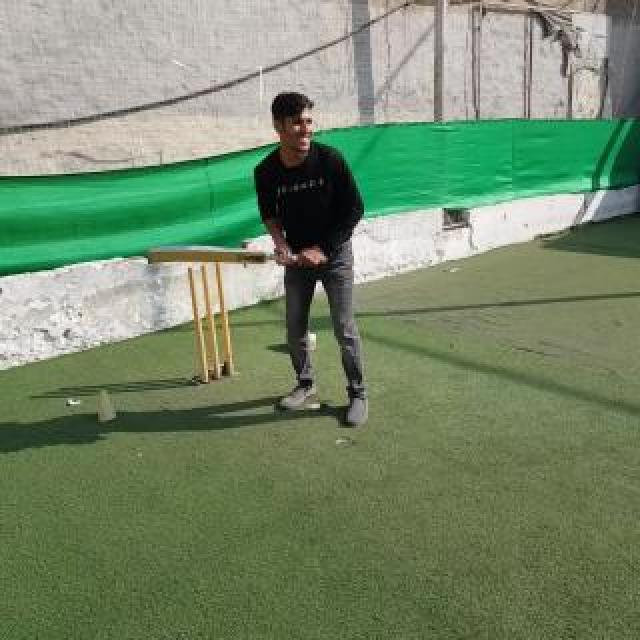bat: (148, 244, 328, 266)
